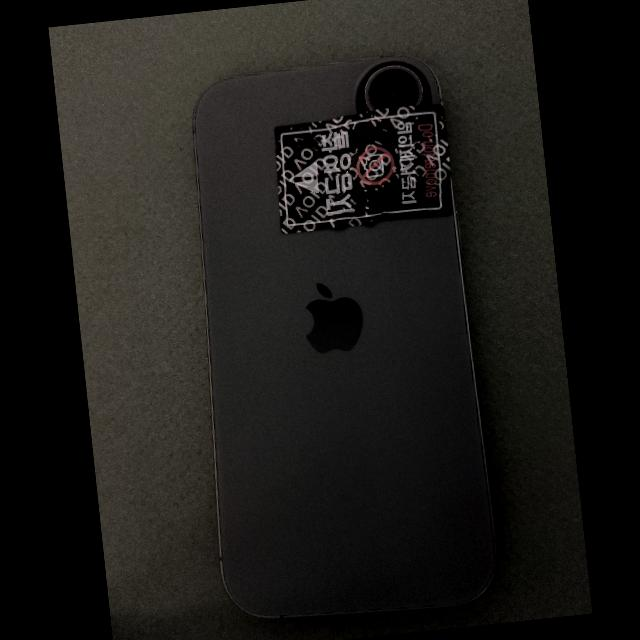lens: (364, 67, 420, 112)
phone: (192, 54, 497, 619)
sticker: (274, 104, 453, 233)
